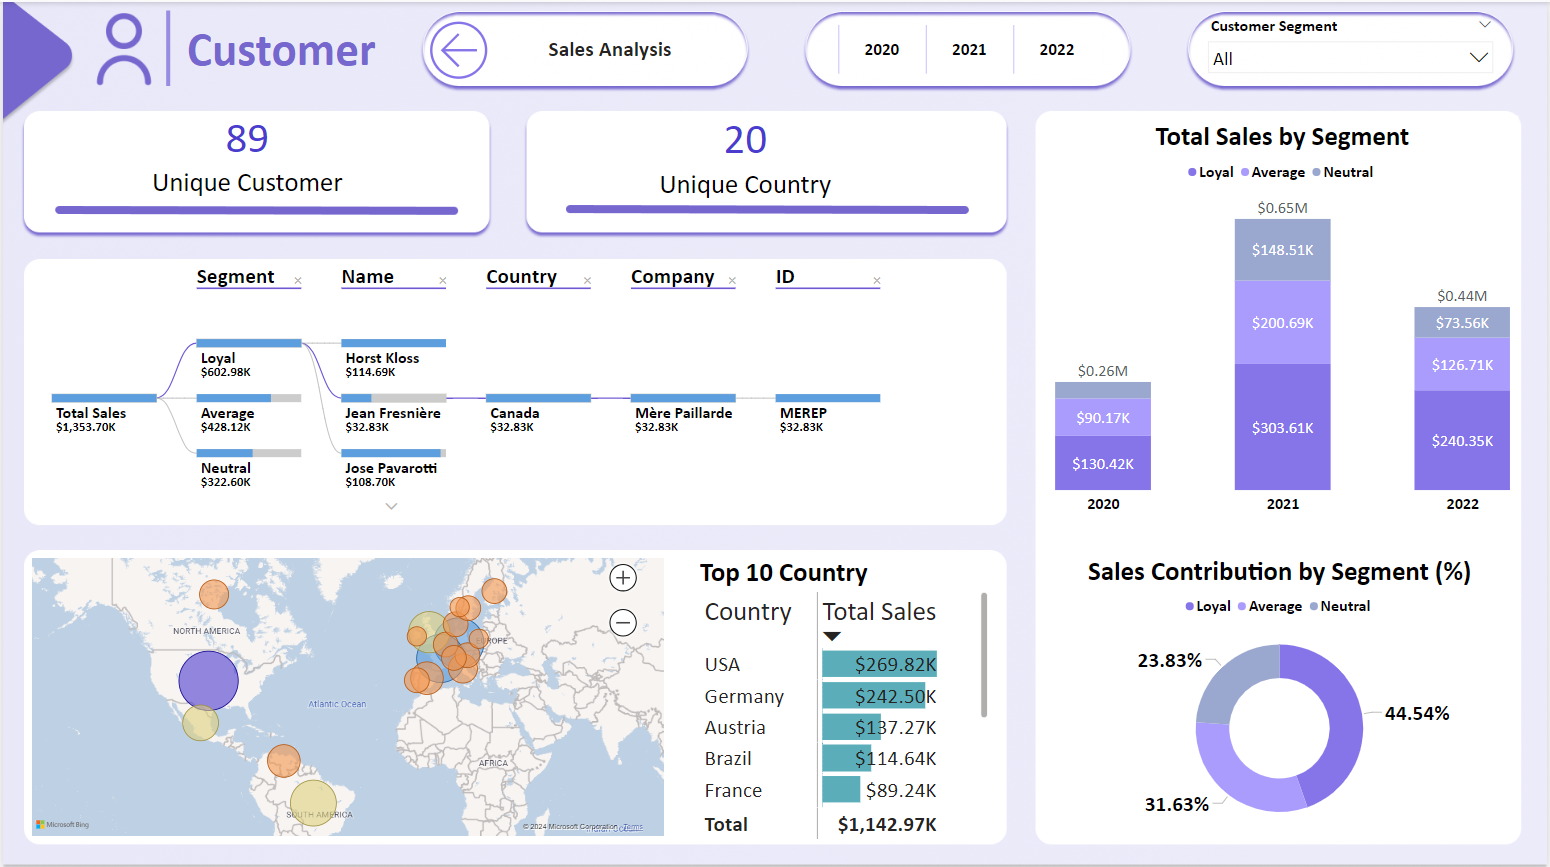

What the dashboard file says about the page in this screenshot:
{"tool":"powerbi","page":{"name":"Customer Analysis","canvas":[1920,1080],"ordinal":2},"visuals":[{"type":"map","fields":{"Category":["Order.CustomerCountry"],"Size":["Order.CustomerName"]},"box":[31.7,686.7,795,355],"z":0},{"type":"donutChart","title":"Sales Contribution by Segment (%)","fields":{"Category":["CustomerClassificationtbl.Classification Group"],"Y":["Divide(MeasureTbl.ClassifiedCustomer, ScopedEval(MeasureTbl.ClassifiedCustomer, []))"]},"box":[1297.7,687.2,579.1,355.8],"z":1000},{"type":"columnChart","title":"Total Sales by Segment","fields":{"Category":["Dates.Date.Variation.Date Hierarchy.Year"],"Series":["CustomerClassificationtbl.Classification Group"],"Y":["MeasureTbl.ClassifiedCustomer"]},"box":[1297.7,141.3,586,504.1],"z":2000},{"type":"card","fields":{"Values":["MeasureTbl.UniqueCustomer"]},"box":[141.7,126.7,325,126.7],"z":3000},{"type":"card","fields":{"Values":["MeasureTbl.UniqueCountry"]},"box":[760.5,127.3,326.2,127.3],"z":4000},{"type":"tableEx","title":"Top 10 Country","fields":{"Values":["Order.CustomerCountry","MeasureTbl.TotalSales"]},"box":[856.7,678.3,373.3,373.3],"z":5000},{"type":"decompositionTreeVisual","fields":{"Analyze":["MeasureTbl.ClassifiedCustomer"],"ExplainBy":["CustomerClassificationtbl.Classification Group","Order.CustomerName","Order.CustomerCountry","Order.CustomerCompany","Order.CustomerID"]},"box":[31.4,320.9,1198.3,324.4],"z":6000},{"type":"slicer","fields":{"Values":["Dates.Date.Variation.Date Hierarchy.Year"]},"box":[1018.6,26.2,364.5,64.5],"z":7000},{"type":"slicer","title":"Category","fields":{"Values":["CustomerClassificationtbl.Classification Group"]},"box":[1493,17.4,364.5,83.7],"z":8000},{"type":"pageNavigator","box":[611.4,16.7,288.1,83.7],"z":9000},{"type":"textbox","box":[223.3,17.4,272.1,83.7],"z":10000},{"type":"actionButton","box":[522.6,13.4,88.8,92.1],"z":11000}]}

Visuals, with their boxes in screenshot pixels (x1, y1, x2, y2), scaled from the page's 1920x1080 canvas onto the 1550x867 screenshot:
map - Order.CustomerCountry x Order.CustomerName: [26, 551, 667, 836]
"Sales Contribution by Segment (%)" donutChart: [1048, 552, 1515, 837]
"Total Sales by Segment" columnChart: [1048, 113, 1521, 518]
card - MeasureTbl.UniqueCustomer: [114, 102, 377, 203]
card - MeasureTbl.UniqueCountry: [614, 102, 877, 204]
"Top 10 Country" tableEx: [692, 545, 993, 844]
decompositionTreeVisual - MeasureTbl.ClassifiedCustomer x CustomerClassificationtbl.Classification Group: [25, 258, 993, 518]
slicer - Dates.Date.Variation.Date Hierarchy.Year: [822, 21, 1117, 73]
"Category" slicer: [1205, 14, 1500, 81]
pageNavigator: [494, 13, 726, 81]
textbox: [180, 14, 400, 81]
actionButton: [422, 11, 494, 85]
